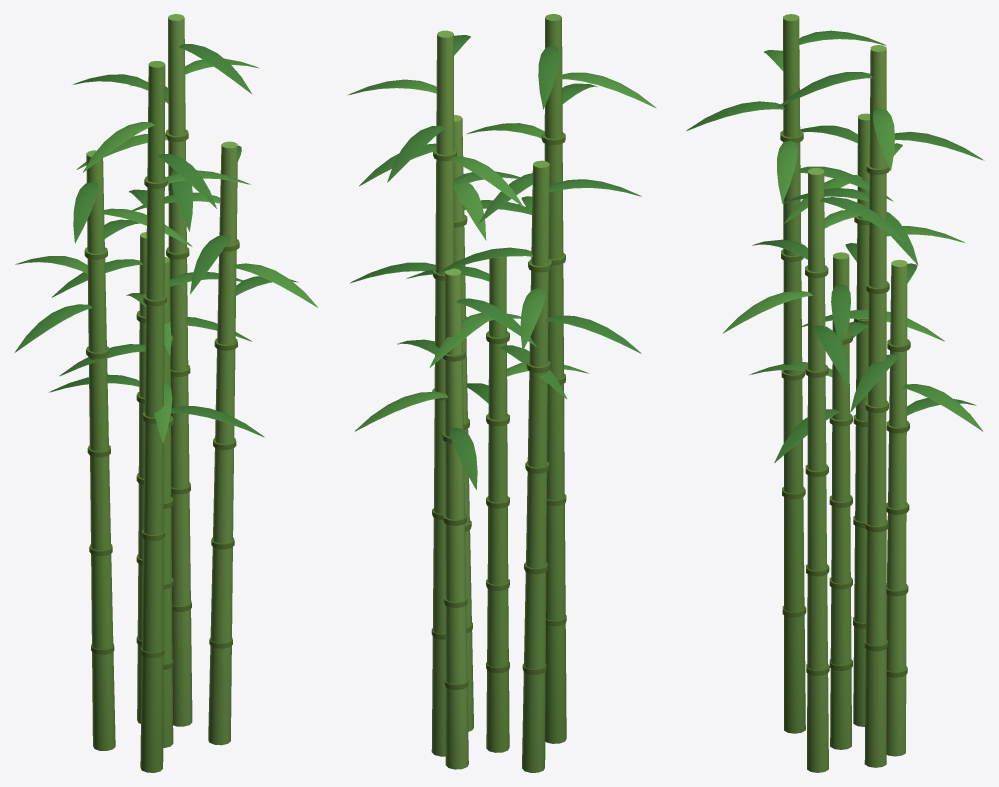
The model's file is tree-bamboo-hd.glb.
The picture shows the model from 3 angles, left to right: view 1: azimuth 30°, elevation 25°; view 2: azimuth 150°, elevation 25°; view 3: azimuth 270°, elevation 25°; orthographic projection. The views are drawn at different scales.
Visible parts, largest first — view 1: tree-bamboo-hd; view 2: tree-bamboo-hd; view 3: tree-bamboo-hd.
Part boxes in pixels (x1,y1,x2,y2): tree-bamboo-hd: [14, 14, 317, 772]; tree-bamboo-hd: [348, 14, 656, 772]; tree-bamboo-hd: [686, 14, 984, 772].
Size of the model in its own units: 4.34 by 10.2 by 3.88.
